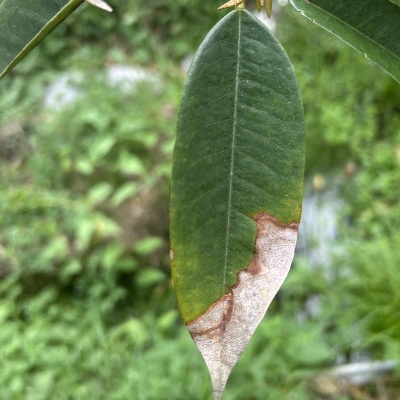Leaf_Colletotrichum: (167, 3, 307, 400)
